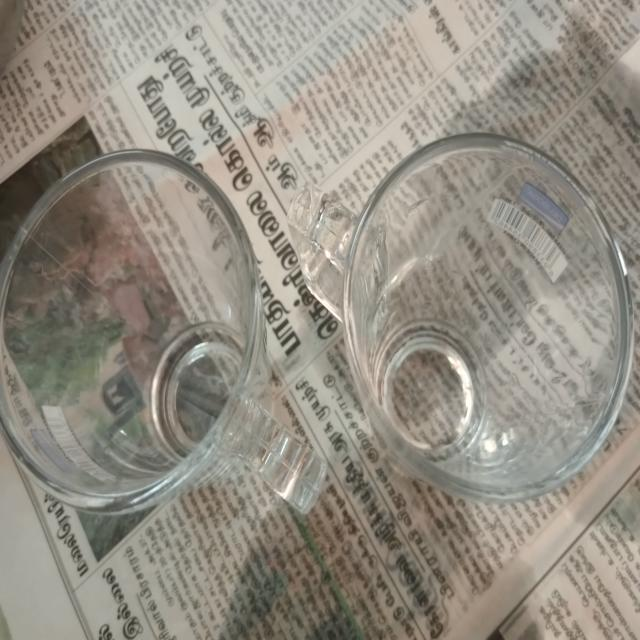glass-VX4N: (286, 125, 638, 498), (2, 149, 324, 508)
